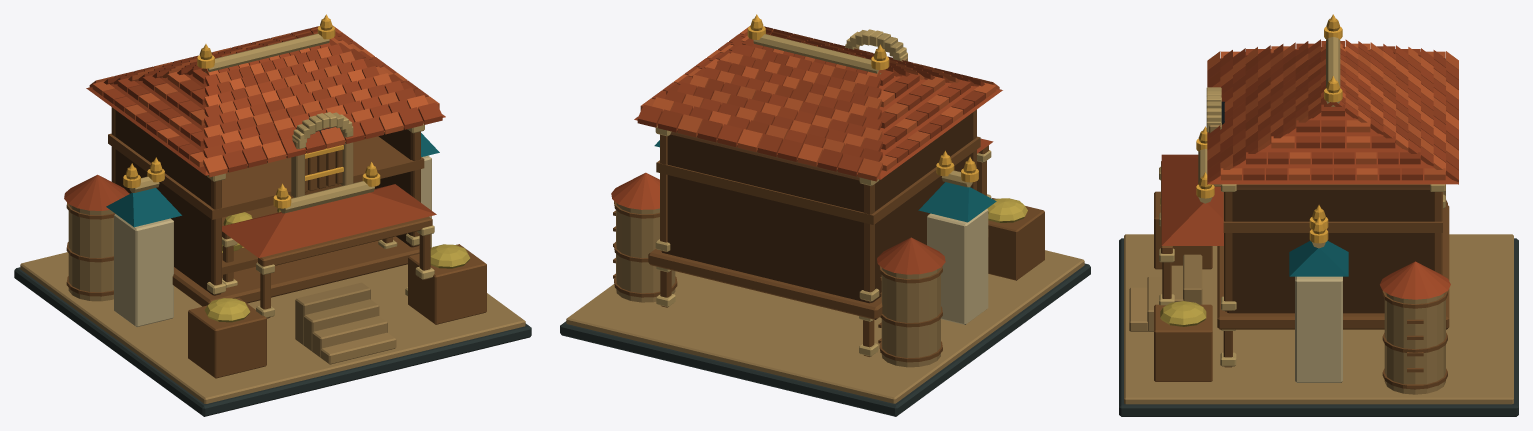
The picture shows the model from 3 angles, left to right: view 1: azimuth 30°, elevation 25°; view 2: azimuth 150°, elevation 25°; view 3: azimuth 270°, elevation 25°; orthographic projection. The views are drawn at different scales.
Parts seen in each view (by area): view 1: granary_8_structure, granary_8_metal; view 2: granary_8_structure, granary_8_metal; view 3: granary_8_structure, granary_8_metal.
Boxes of the visible parts, x1,y1,x2,y2 form: granary_8_structure: (14,18,531,416); granary_8_metal: (123,14,380,208); granary_8_structure: (560,18,1090,416); granary_8_metal: (747,14,978,182); granary_8_structure: (1119,18,1518,416); granary_8_metal: (1196,14,1342,243).
Size of the model in its own units: 5.6 by 4.46 by 5.6.
